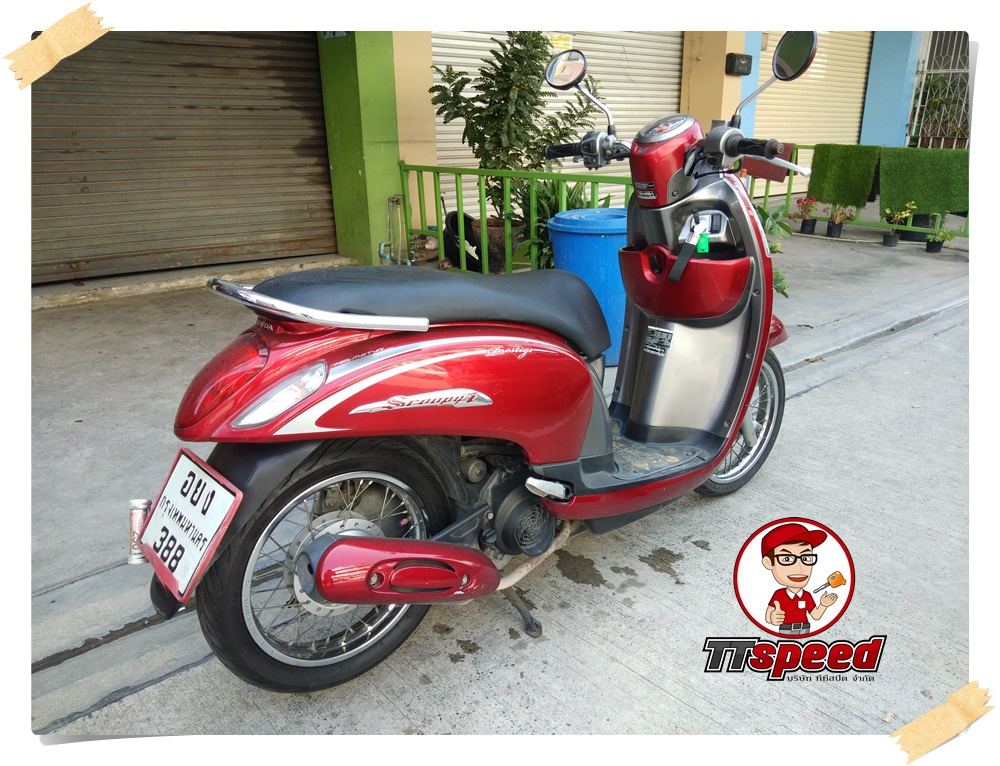motorcycle: (126, 26, 812, 696)
